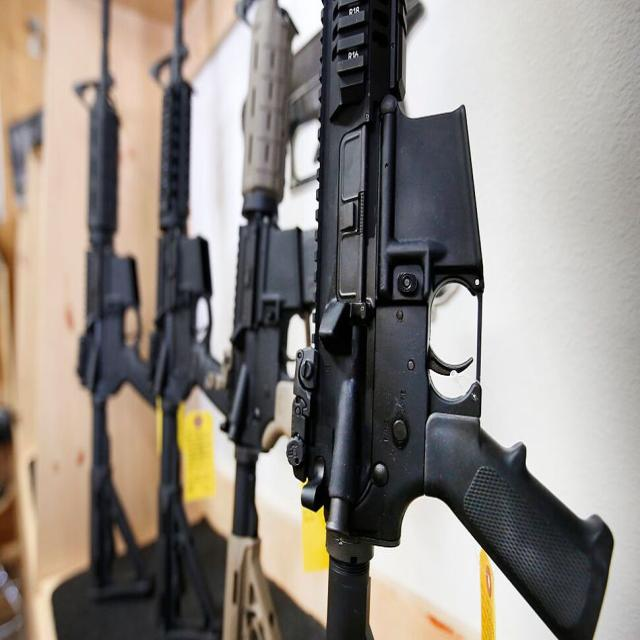Rifle: (287, 0, 599, 640), (222, 0, 316, 640), (74, 0, 152, 603), (151, 0, 216, 631)
